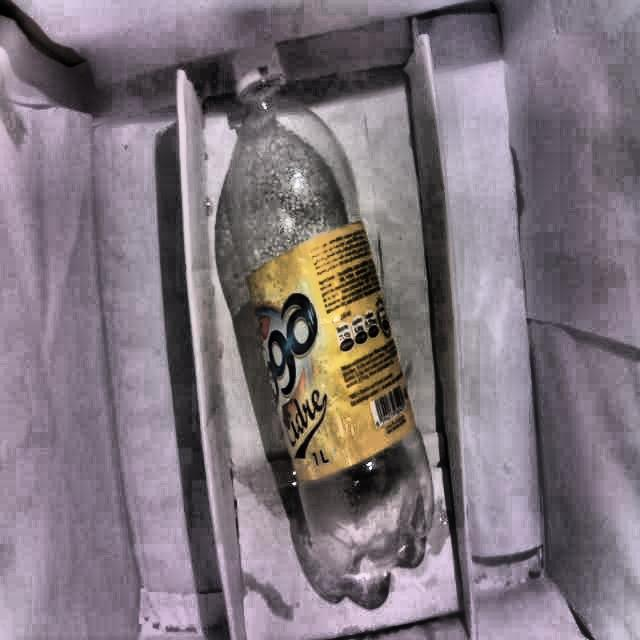plastic bottle: (219, 22, 440, 590)
